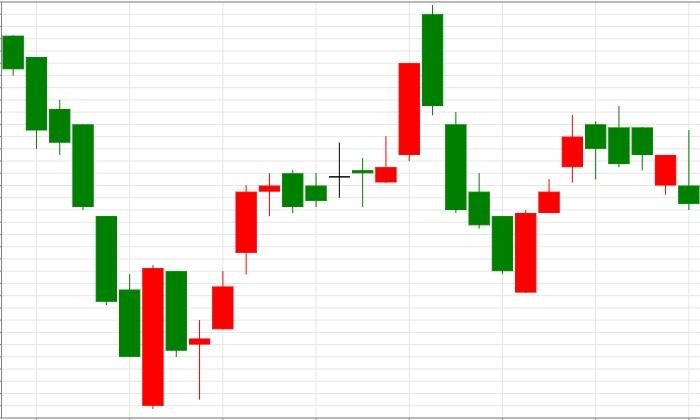bullish_engulfing_rise: (3, 34, 164, 409), (422, 4, 537, 293)
